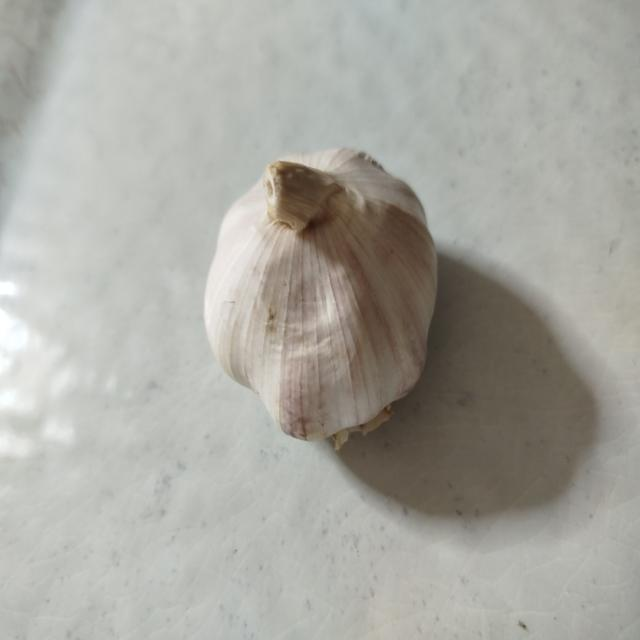garlic: (203, 146, 439, 450)
